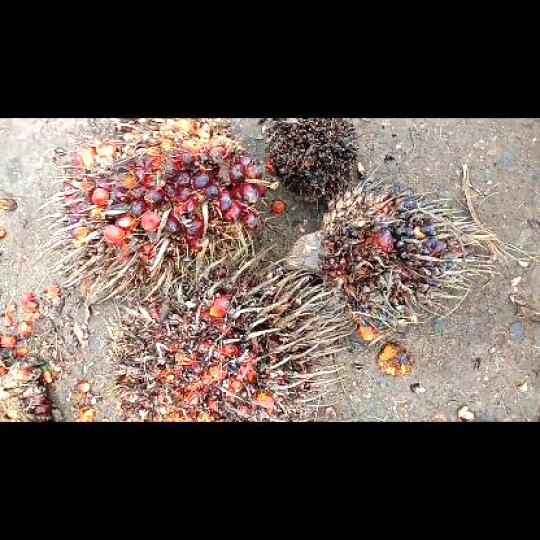masak: (33, 117, 271, 300)
terlalu masak: (104, 246, 361, 421)
